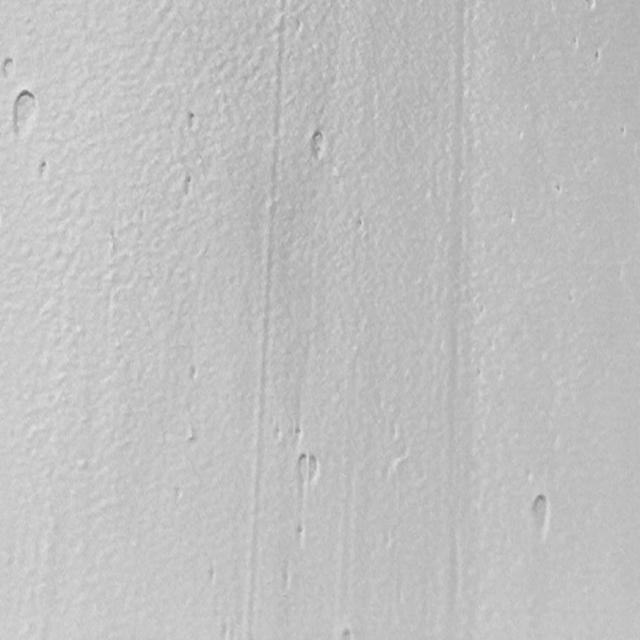pin holes: (10, 89, 42, 139), (529, 493, 555, 533), (293, 451, 320, 483), (308, 129, 328, 161), (0, 55, 18, 80), (34, 156, 51, 181), (180, 173, 197, 198), (293, 522, 309, 548), (279, 566, 294, 592), (186, 110, 200, 132), (186, 431, 203, 448), (188, 366, 202, 385), (338, 626, 356, 640), (616, 124, 630, 139), (583, 0, 599, 13), (592, 48, 604, 65), (552, 182, 565, 197), (293, 426, 304, 442)
